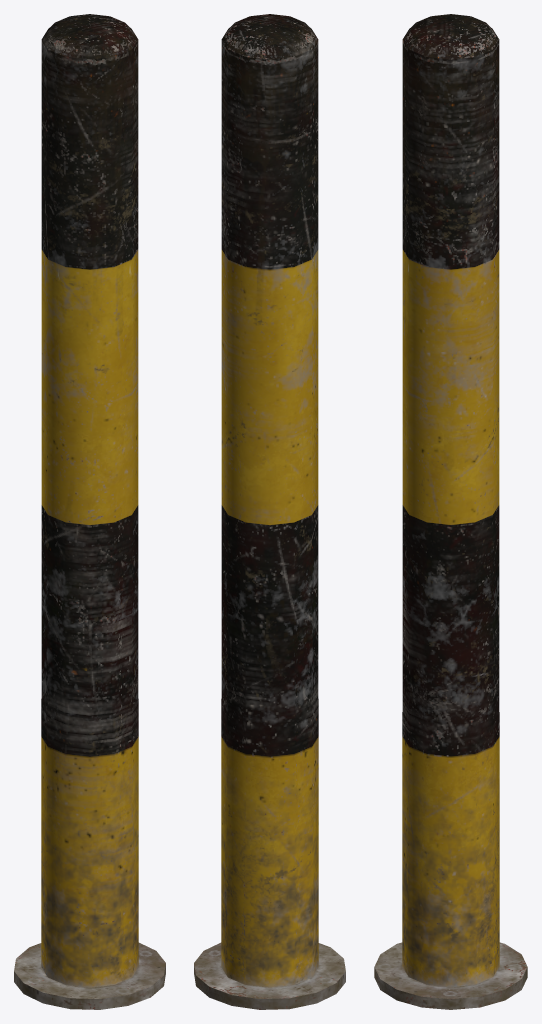
File: Bollard_01a_snaps011.fbx
The picture shows the model from 3 angles, left to right: view 1: azimuth 30°, elevation 25°; view 2: azimuth 150°, elevation 25°; view 3: azimuth 270°, elevation 25°; orthographic projection.
Parts seen in each view (by area): view 1: Bollard_01a_snaps011_LOD0; view 2: Bollard_01a_snaps011_LOD0; view 3: Bollard_01a_snaps011_LOD0.
Part boxes in pixels (x1,y1,x2,y2): Bollard_01a_snaps011_LOD0: (14, 14, 165, 1009); Bollard_01a_snaps011_LOD0: (194, 14, 345, 1009); Bollard_01a_snaps011_LOD0: (374, 14, 527, 1009).
Size of what is drawn, in the model's own units: 10.67 by 73.25 by 10.67.
